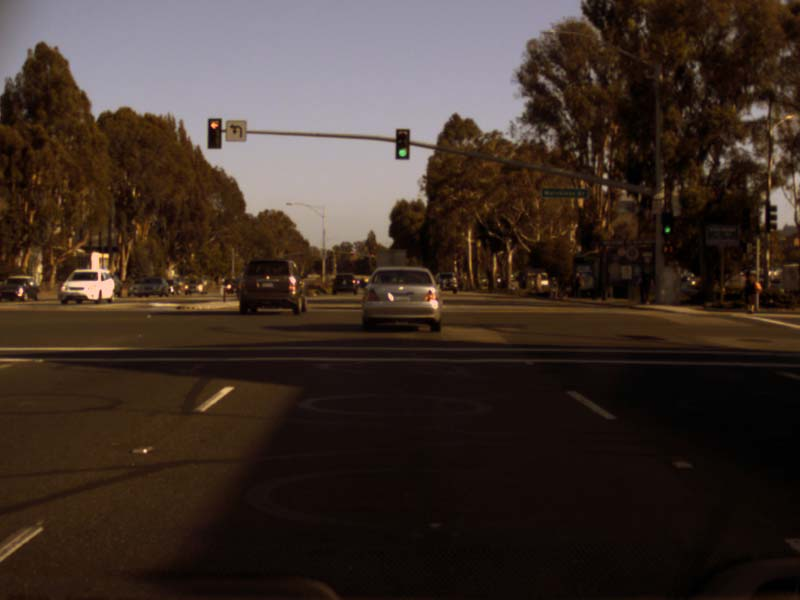Green: (395, 128, 409, 159), (662, 212, 672, 235)
Red: (207, 117, 221, 149)
